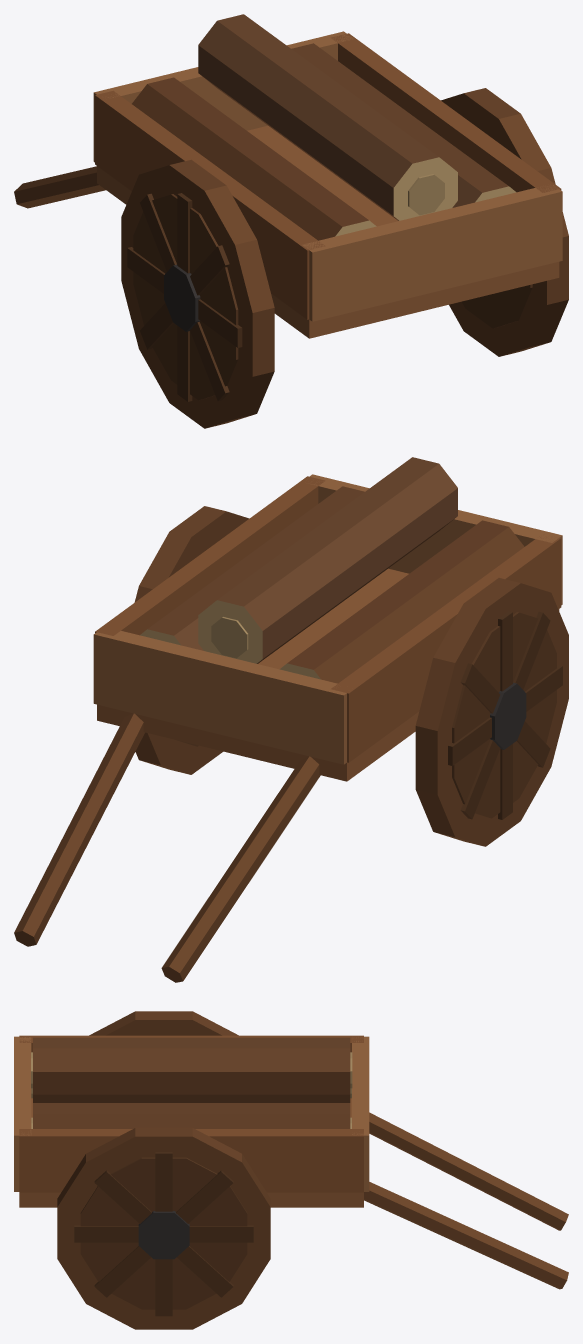
File: Cart.glb
The picture shows the model from 3 angles, top to bottom: view 1: azimuth 30°, elevation 25°; view 2: azimuth 150°, elevation 25°; view 3: azimuth 270°, elevation 25°; orthographic projection. The views are drawn at different scales.
Visible parts, largest first — view 1: Body; view 2: Body; view 3: Body.
Part boxes in pixels (x1,y1,x2,y2): Body: (14, 14, 568, 428); Body: (14, 457, 568, 982); Body: (14, 1011, 568, 1329).
Size of what is drawn, in the model's own units: 4.5 by 3.58 by 8.05.
